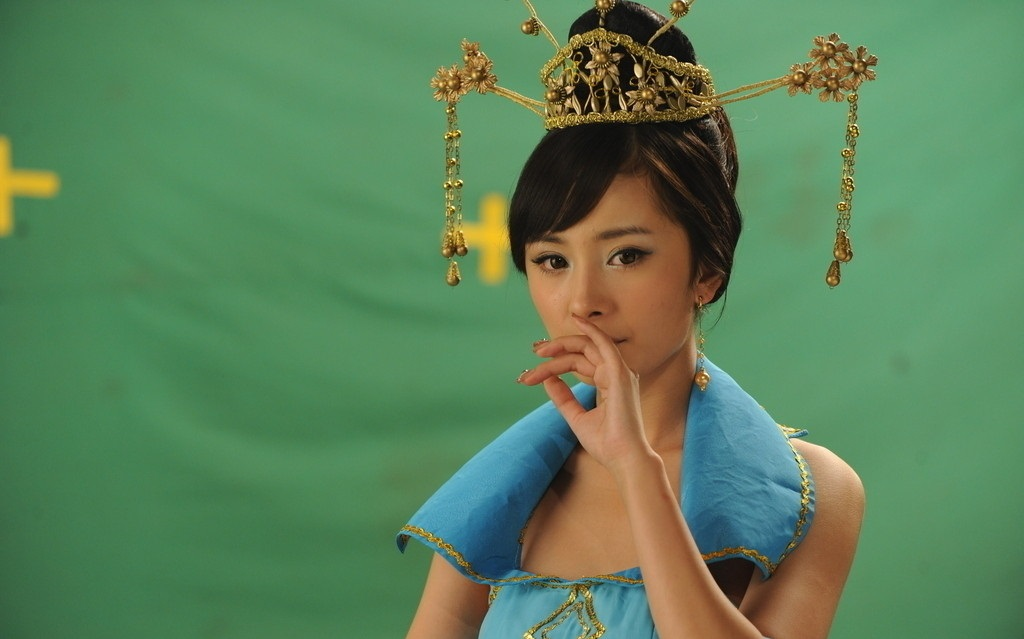face: (526, 176, 682, 383)
